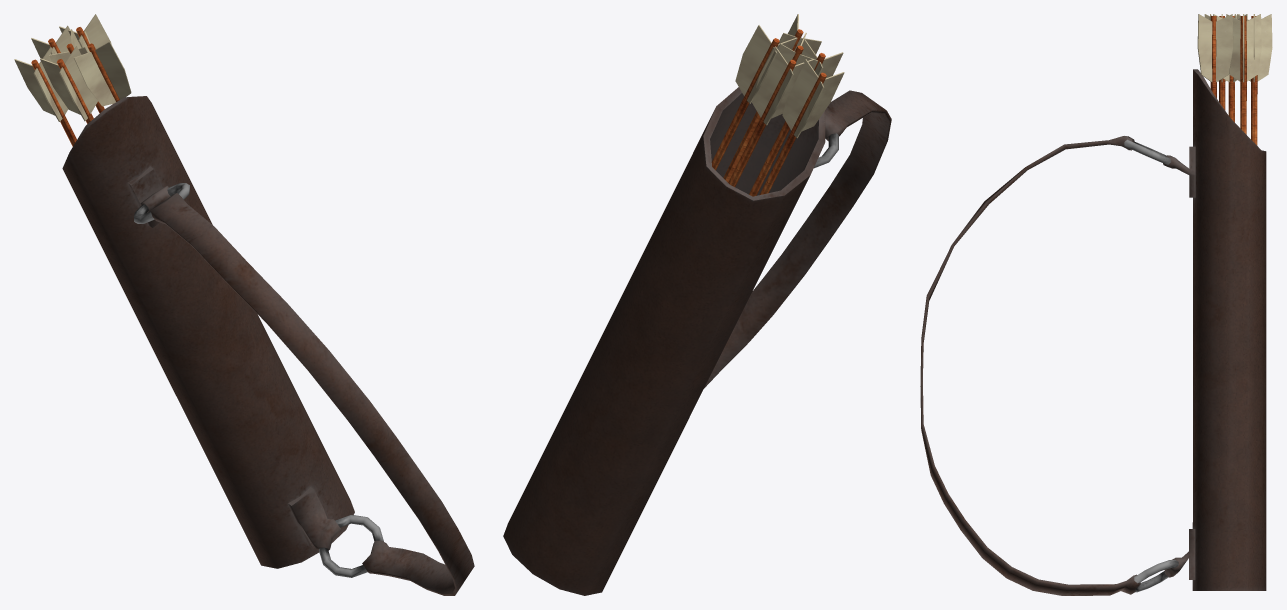
The model's file is SM_Quiver&ArrowsProp.fbx.
3 renders of one model, left to right at view 1: azimuth 30°, elevation 25°; view 2: azimuth 150°, elevation 25°; view 3: azimuth 270°, elevation 25°, orthographic. The views are drawn at different scales.
Visible parts, largest first — view 1: SM_Quiver&ArrowsProp; view 2: SM_Quiver&ArrowsProp; view 3: SM_Quiver&ArrowsProp.
Part boxes in pixels (x1=…): SM_Quiver&ArrowsProp: x1=14, y1=14, x2=474, y2=595; SM_Quiver&ArrowsProp: x1=503, y1=14, x2=891, y2=595; SM_Quiver&ArrowsProp: x1=920, y1=14, x2=1272, y2=595.
Bounding box in the file's own units: 39.17 × 68.62 × 42.92.
